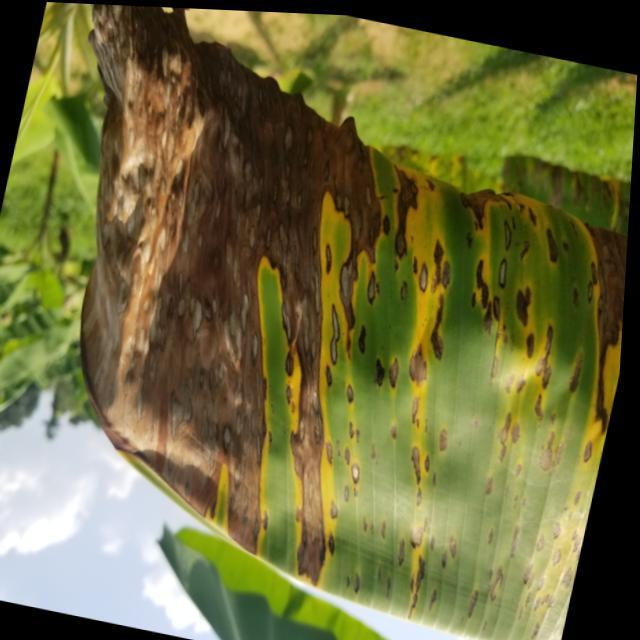Early_rust: (50, 0, 634, 640)
